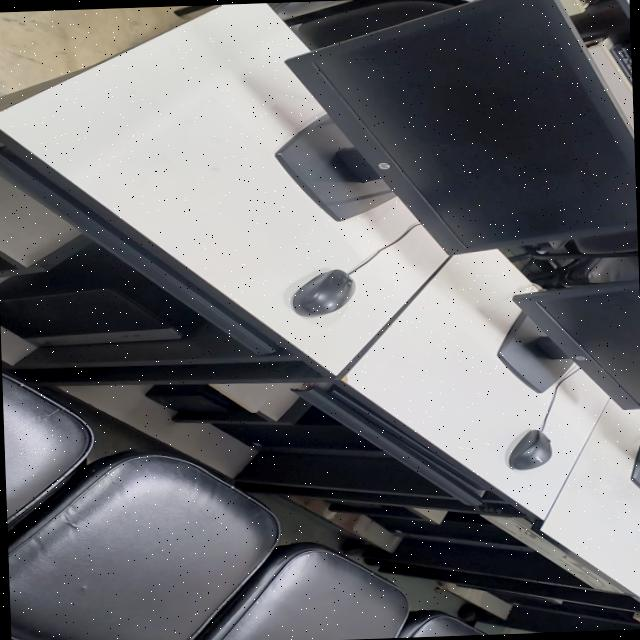Chair: (7, 450, 278, 640), (193, 541, 407, 640), (2, 373, 93, 522), (396, 608, 490, 638)
Cpu: (0, 288, 181, 344), (175, 410, 381, 454), (365, 512, 525, 547)
Keyboard: (610, 38, 632, 84)
Monitor: (275, 0, 637, 253), (497, 279, 640, 408), (631, 444, 640, 487)
Mouse: (292, 268, 355, 315), (508, 428, 552, 468)
